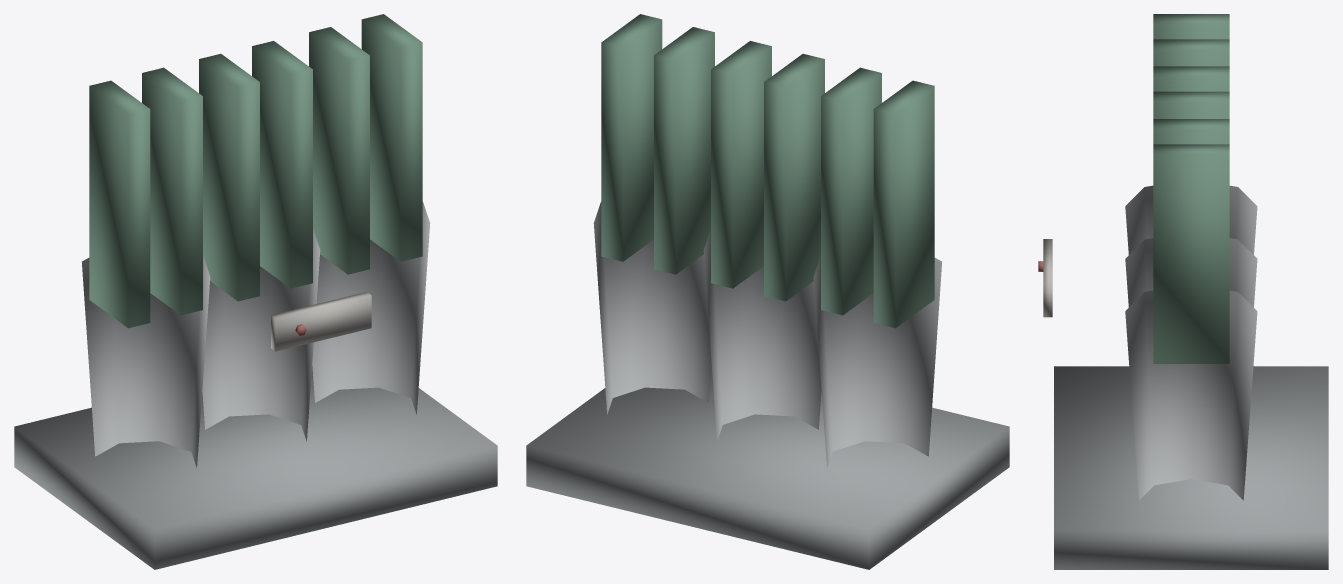
File: flower_bucket_rack__compact.glb
The picture shows the model from 3 angles, left to right: view 1: azimuth 30°, elevation 25°; view 2: azimuth 150°, elevation 25°; view 3: azimuth 270°, elevation 25°; orthographic projection. The views are drawn at different scales.
Parts seen in each view (by area): view 1: world; view 2: world; view 3: world.
Boxes of the visible parts, left/top/right/bottom form: world: left=14, top=14, right=497, bottom=569; world: left=526, top=14, right=1009, bottom=569; world: left=1038, top=14, right=1328, bottom=569.
Bounding box in the file's own units: 0.6552 × 0.7533 × 0.4911.
